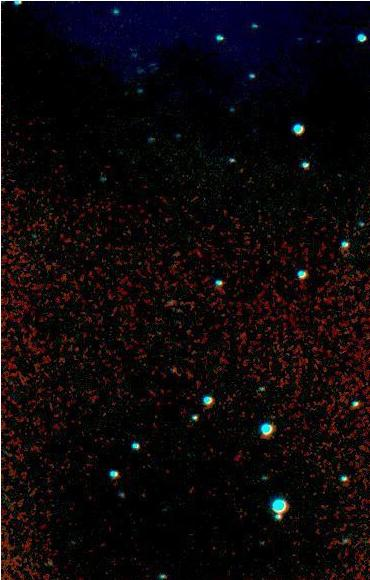star: (158, 18, 188, 48)
